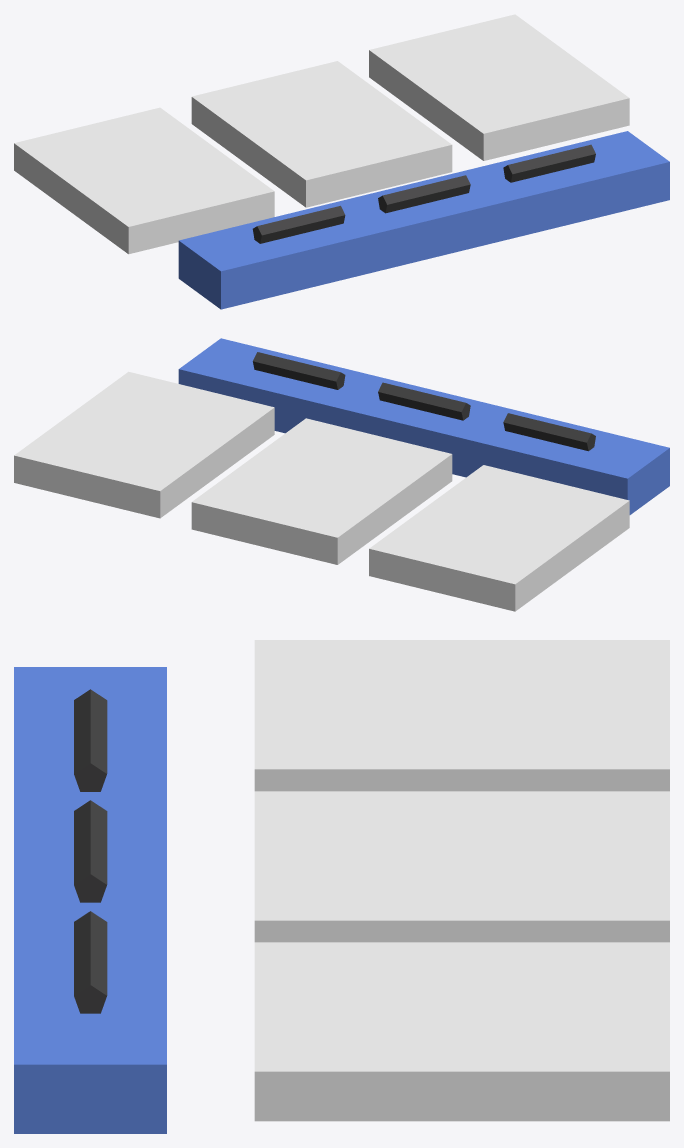
3 renders of one model, top to bottom at view 1: azimuth 30°, elevation 25°; view 2: azimuth 150°, elevation 25°; view 3: azimuth 270°, elevation 25°, orthographic. The views are drawn at different scales.
Visible parts, largest first — view 1: Pen tray, Paper stack.001, Paper stack.002, Paper stack, Pen.001, Pen.002, Pen; view 2: Pen tray, Paper stack.001, Paper stack, Paper stack.002, Pen, Pen.001, Pen.002; view 3: Paper stack.002, Paper stack, Paper stack.001, Pen tray, Pen.001, Pen.002, Pen.
Part boxes in pixels (box(x1,y1,x2,y2)): Pen tray: box(178, 131, 669, 309); Paper stack.001: box(191, 61, 452, 207); Paper stack.002: box(369, 14, 629, 160); Paper stack: box(14, 107, 274, 254); Pen.001: box(378, 175, 470, 213); Pen.002: box(503, 144, 595, 182); Pen: box(252, 205, 345, 243); Pen tray: box(178, 338, 669, 514); Paper stack.001: box(191, 418, 452, 564); Paper stack: box(369, 465, 629, 611); Paper stack.002: box(14, 371, 274, 518); Pen: box(503, 413, 595, 451); Pen.001: box(378, 382, 470, 420); Pen.002: box(252, 352, 345, 389); Paper stack.002: box(254, 942, 669, 1121); Paper stack: box(254, 640, 669, 791); Paper stack.001: box(254, 791, 669, 942); Pen tray: box(14, 667, 166, 1133); Pen.001: box(74, 800, 107, 902); Pen.002: box(74, 911, 107, 1013); Pen: box(74, 689, 107, 791).
Bounding box in the file's own units: 48 × 4.95 × 30.
